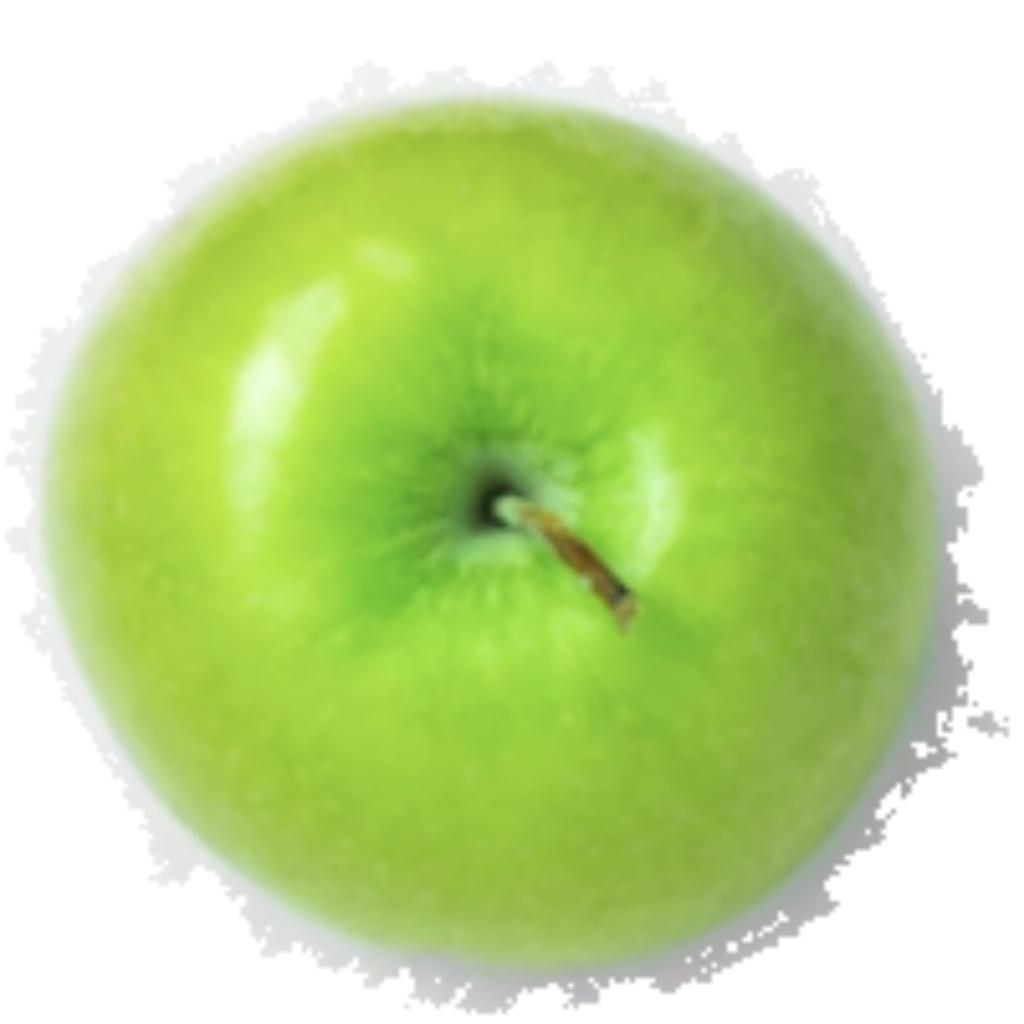apple: (0, 56, 1009, 1014)
